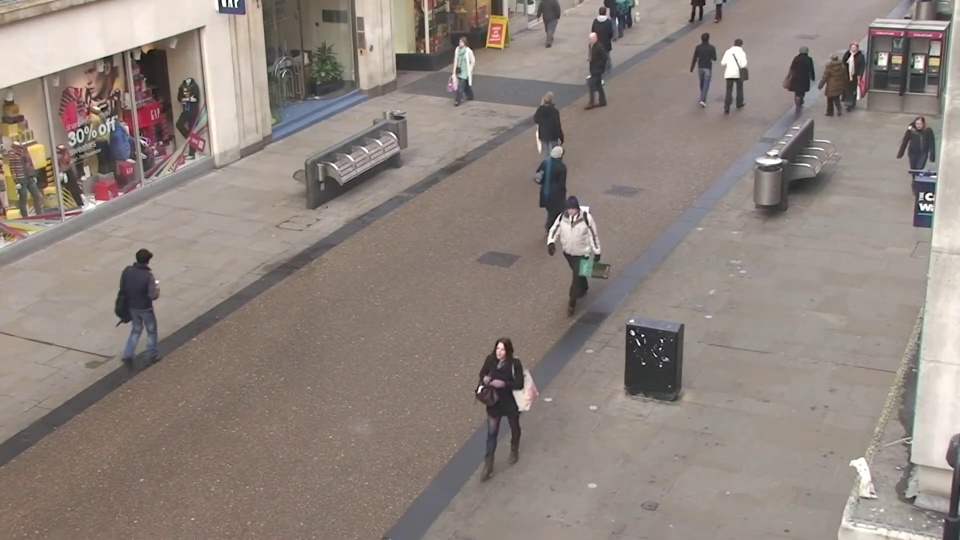pedestrian: (470, 336, 520, 488), (132, 235, 184, 359), (891, 114, 936, 213), (550, 197, 587, 316), (547, 140, 581, 243), (832, 40, 866, 118), (541, 88, 571, 176), (814, 48, 846, 128), (787, 40, 817, 117), (725, 31, 752, 105), (446, 34, 472, 107), (573, 33, 598, 106), (693, 27, 718, 98), (594, 3, 616, 68)
